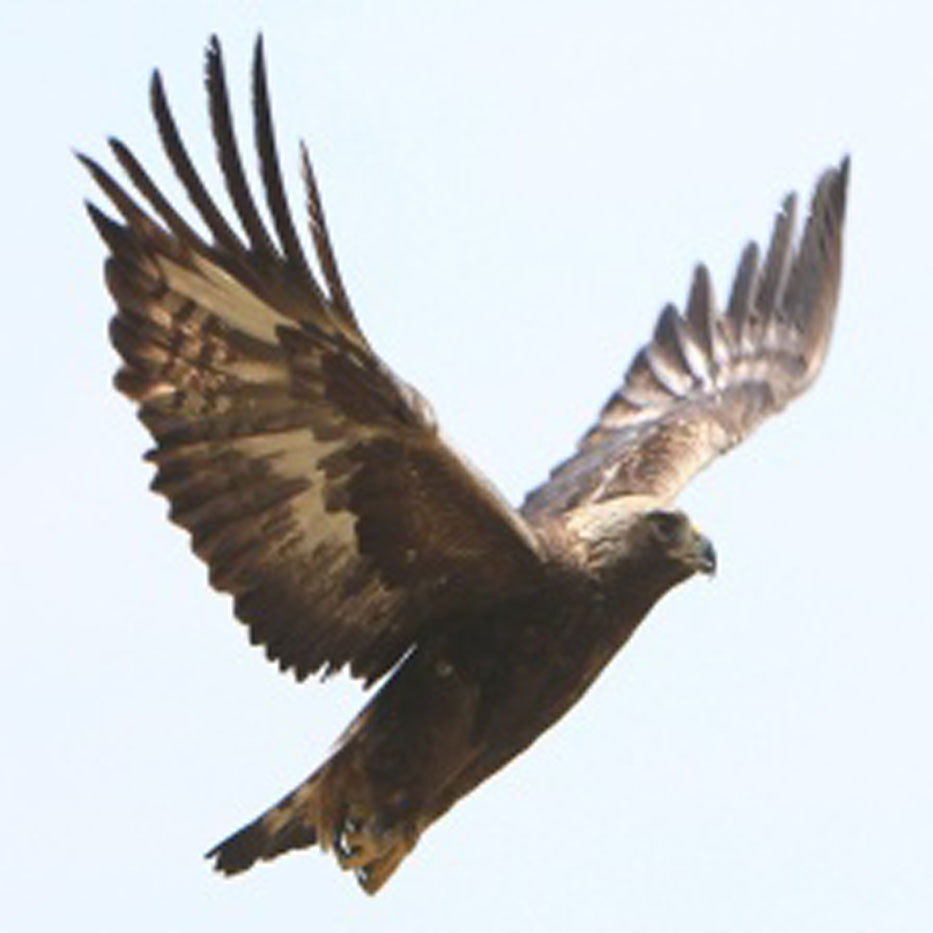Pengoyak Daging: (691, 527, 729, 583)
